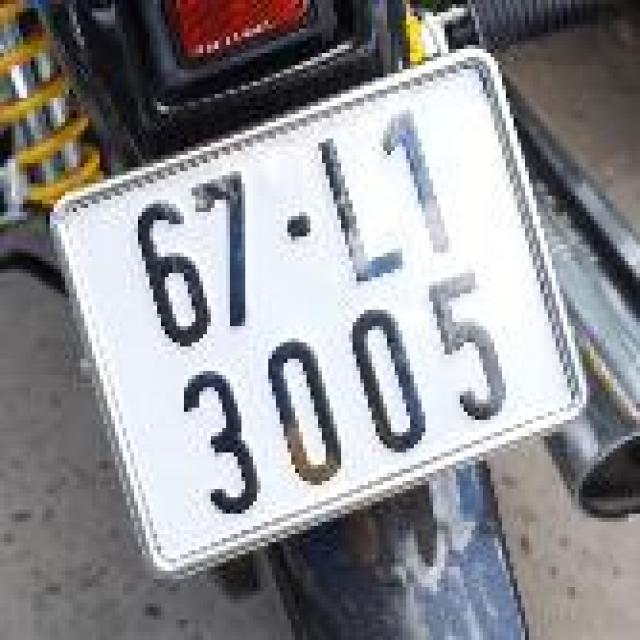0: (336, 298, 443, 463), (250, 328, 354, 494)
1: (367, 94, 468, 264)
3: (166, 358, 270, 532)
5: (414, 262, 522, 434)
6: (124, 184, 222, 358)
7: (179, 160, 279, 340)
L: (302, 119, 418, 303)
